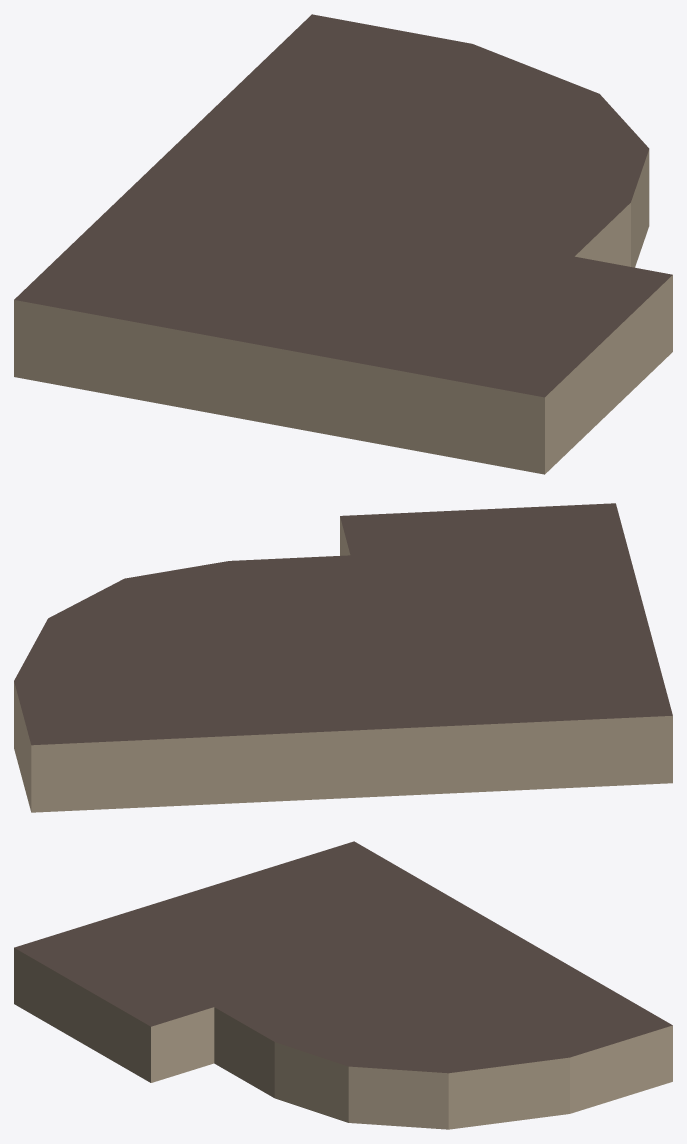
3 renders of one model, top to bottom at view 1: azimuth 30°, elevation 25°; view 2: azimuth 150°, elevation 25°; view 3: azimuth 270°, elevation 25°, orthographic. The views are drawn at different scales.
Visible parts, largest first — view 1: HP-w40324703; view 2: HP-w40324703; view 3: HP-w40324703.
Part boxes in pixels (x1,y1,x2,y2): HP-w40324703: [14, 14, 672, 474]; HP-w40324703: [14, 503, 672, 812]; HP-w40324703: [14, 841, 672, 1129].
Bounding box in the file's own units: 52.92 × 6 × 63.54.
